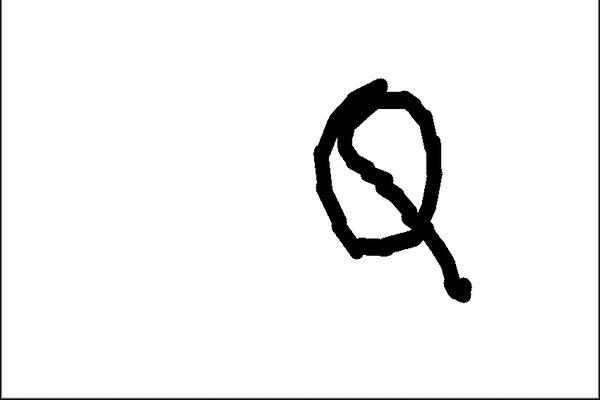Q: (298, 67, 474, 309)
